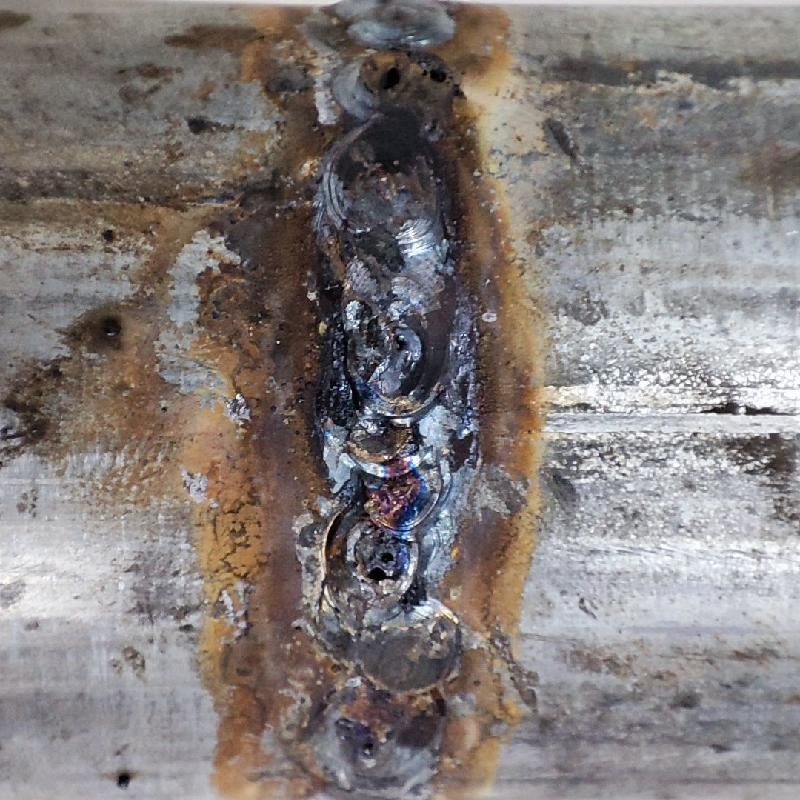Surface_pores: (361, 44, 452, 103), (343, 527, 413, 594)
crater: (304, 9, 473, 792)
